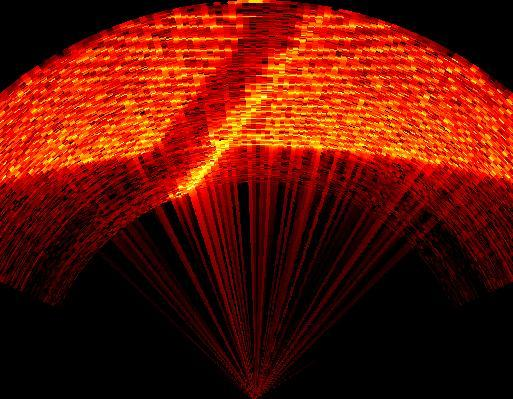pipe: (133, 2, 314, 192)
